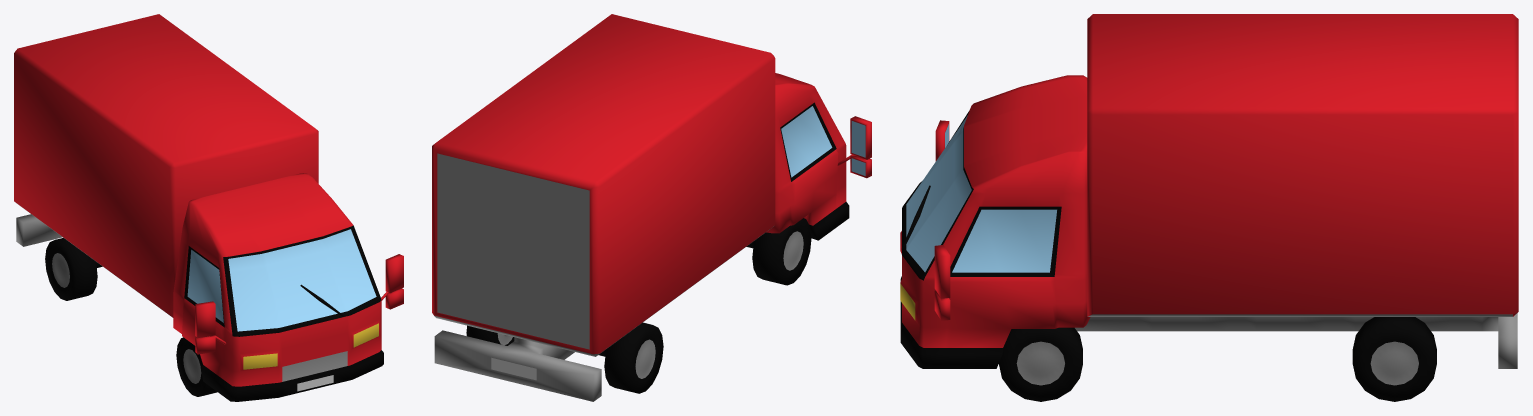
Rendered from small_truck.fbx.
The picture shows the model from 3 angles, left to right: view 1: azimuth 30°, elevation 25°; view 2: azimuth 150°, elevation 25°; view 3: azimuth 270°, elevation 25°; orthographic projection. The views are drawn at different scales.
Visible parts, largest first — view 1: Cube.004; view 2: Cube.004; view 3: Cube.004.
Part boxes in pixels (left/top/right/bottom): Cube.004: left=14, top=14, right=403, bottom=401; Cube.004: left=432, top=14, right=871, bottom=401; Cube.004: left=900, top=14, right=1518, bottom=401.
Bounding box in the file's own units: 253 × 254 × 485.
